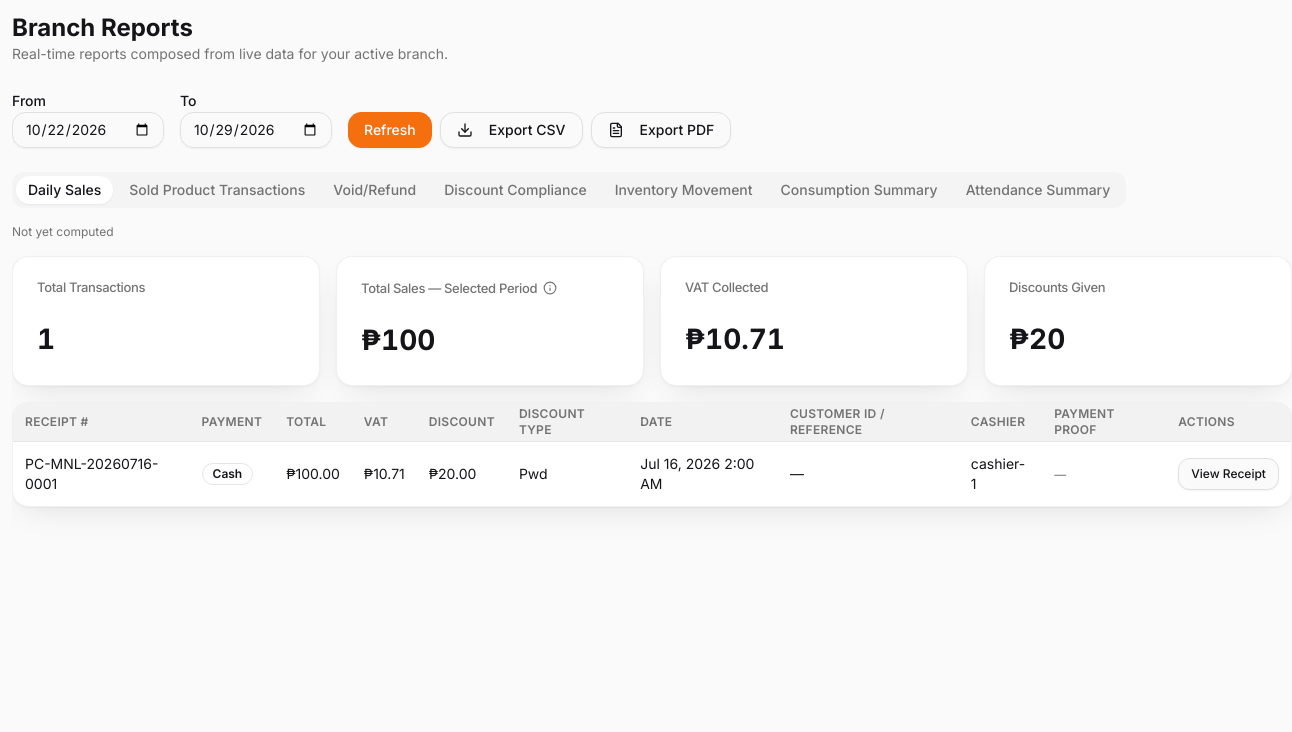
SupervisorReportsPage › Discount Compliance — discount-proof viewing (Task 209.5) › shows a Proof Available "Yes · View Proof" button for a PWD/Senior row with a proof attached
Step 1. Press the mouse on the tab "Discount Compliance" → (516, 190), box [432,176,599,204]
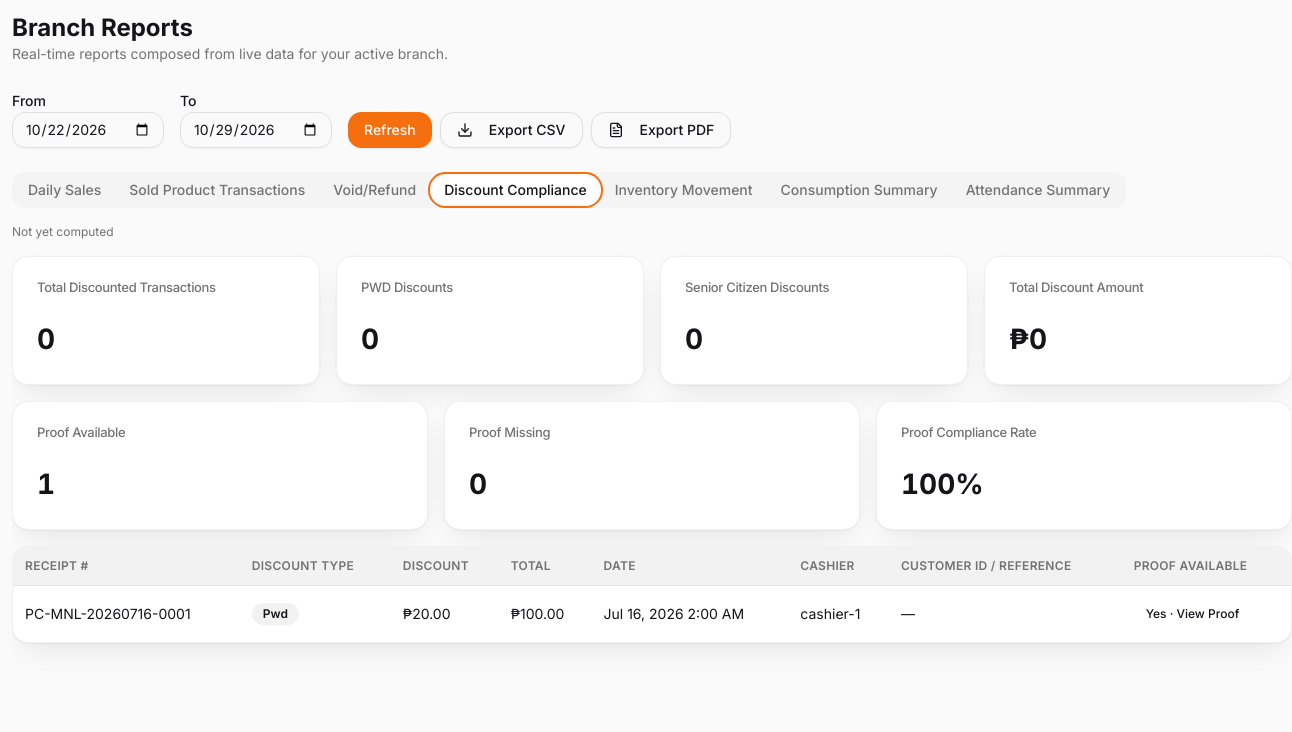
Check: the button "Yes · View Proof" is shown, box [1134,598,1251,630]
